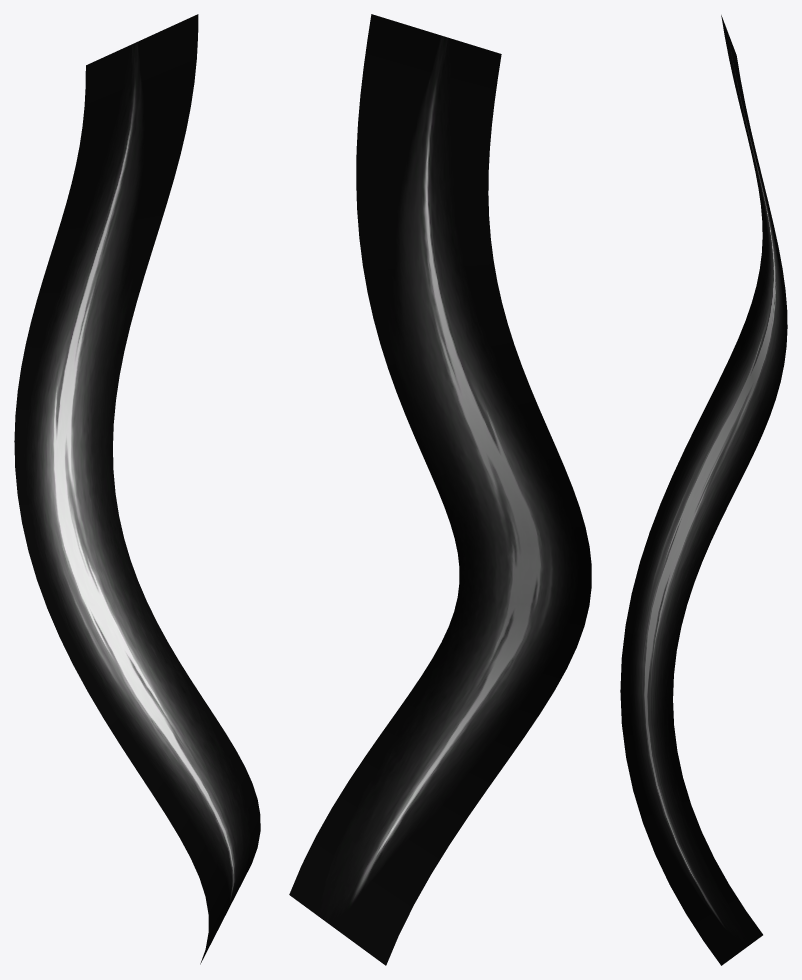
The picture shows the model from 3 angles, left to right: view 1: azimuth 30°, elevation 25°; view 2: azimuth 150°, elevation 25°; view 3: azimuth 270°, elevation 25°; orthographic projection. The views are drawn at different scales.
Parts seen in each view (by area): view 1: Helix001; view 2: Helix001; view 3: Helix001.
Boxes of the visible parts, x1,y1,x2,y2 form: Helix001: (14,14,260,964); Helix001: (289,14,591,965); Helix001: (620,15,787,965).
Size of the model in its own units: 18.6 by 64.97 by 10.77.
Materials: 1 (1 with a texture image).
